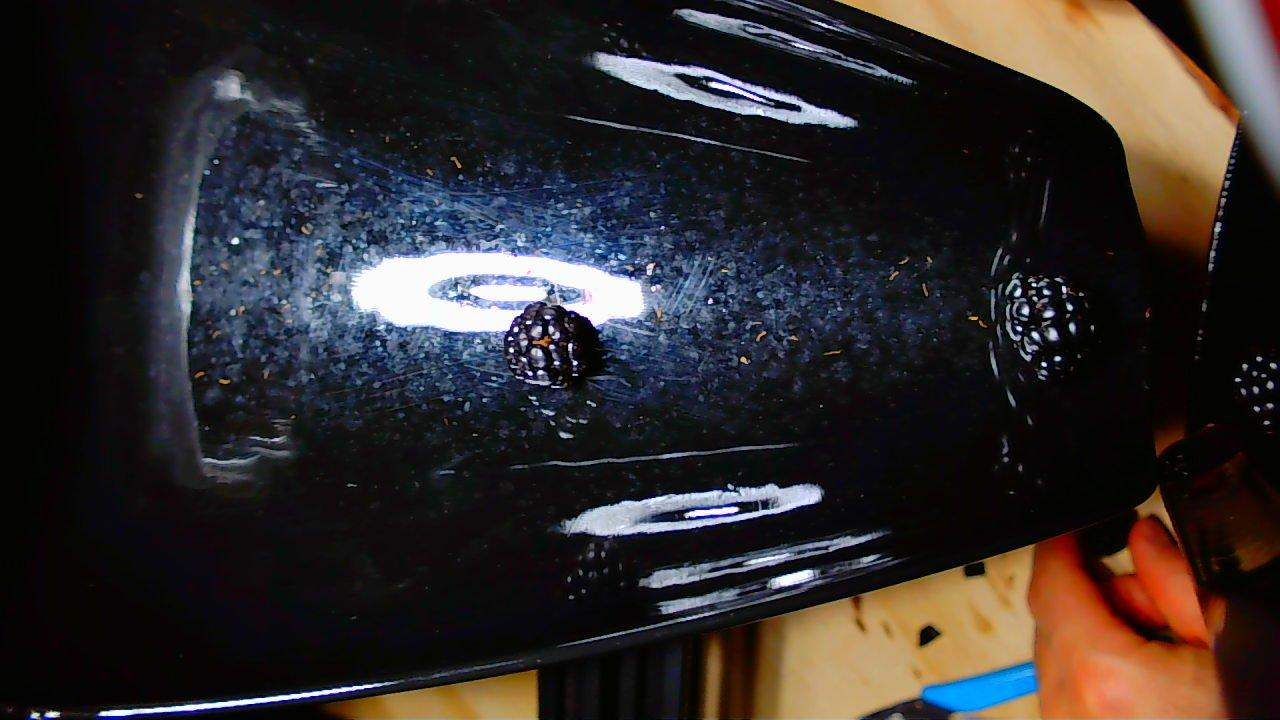berry: (1005, 274, 1094, 379), (503, 301, 602, 386), (1233, 353, 1279, 433)
